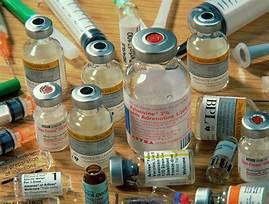Syringe: (121, 22, 199, 158), (64, 82, 118, 172), (20, 13, 72, 98), (188, 5, 234, 91), (106, 147, 198, 189), (28, 78, 72, 153), (236, 110, 269, 186), (7, 172, 76, 200)
